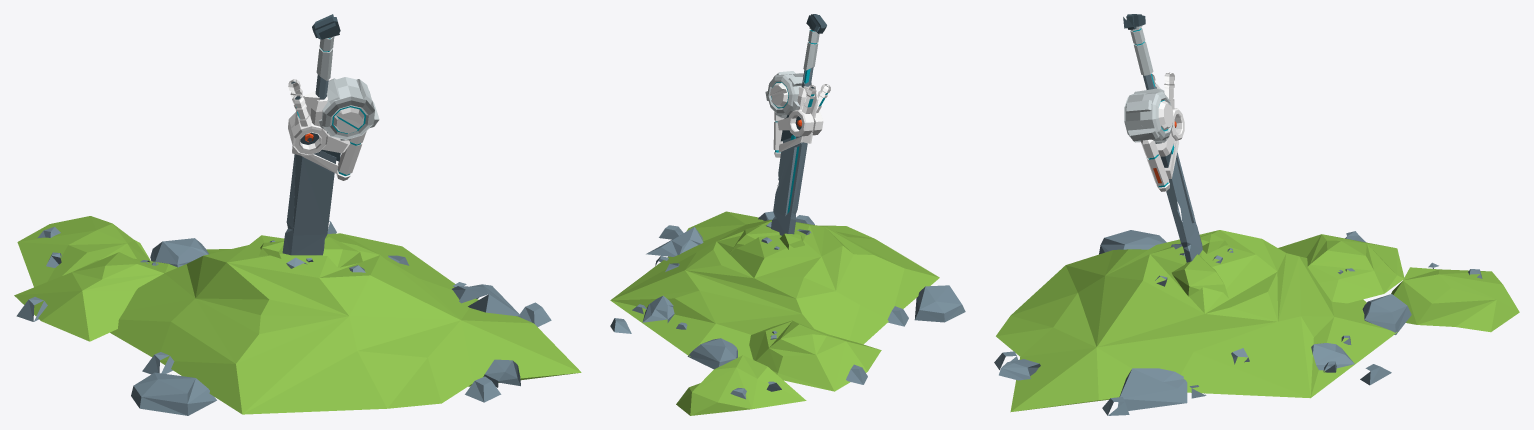
Rendered from sword.glb.
3 views of the same model, side by side, from view 1: azimuth 30°, elevation 25°; view 2: azimuth 150°, elevation 25°; view 3: azimuth 270°, elevation 25° (orthographic). The views are drawn at different scales.
Parts seen in each view (by area): view 1: group1821133275, group1355283942, group1968882272, group263190879, group429069021, group707763807, group1959712594, group1165729818, group891422983, group262363045; view 2: group1821133275, group1355283942, group1968882272, group263190879, group429069021, group1959712594, group707763807, group294009847, group1165729818; view 3: group1821133275, group1355283942, group263190879, group1968882272, group707763807, group1165729818, group1959712594, group429069021, group294009847, group891422983.
Boxes of the visible parts, bbox=[...] form: group1821133275: bbox=[110, 233, 581, 414]; group1355283942: bbox=[282, 14, 379, 255]; group1968882272: bbox=[14, 252, 177, 341]; group263190879: bbox=[17, 216, 150, 287]; group429069021: bbox=[131, 372, 216, 415]; group707763807: bbox=[452, 284, 522, 317]; group1959712594: bbox=[150, 238, 208, 267]; group1165729818: bbox=[317, 237, 362, 267]; group891422983: bbox=[483, 359, 520, 387]; group262363045: bbox=[465, 376, 501, 402]; group1821133275: bbox=[610, 211, 939, 359]; group1355283942: bbox=[765, 14, 830, 235]; group1968882272: bbox=[749, 320, 881, 391]; group263190879: bbox=[676, 355, 806, 415]; group429069021: bbox=[914, 285, 965, 322]; group1959712594: bbox=[687, 338, 737, 369]; group707763807: bbox=[646, 227, 703, 256]; group294009847: bbox=[642, 295, 674, 322]; group1165729818: bbox=[730, 224, 779, 252]; group1821133275: bbox=[996, 230, 1397, 412]; group1355283942: bbox=[1123, 14, 1202, 262]; group263190879: bbox=[1391, 267, 1519, 332]; group1968882272: bbox=[1278, 234, 1404, 303]; group707763807: bbox=[1117, 368, 1187, 410]; group1165729818: bbox=[1171, 254, 1228, 298]; group1959712594: bbox=[1362, 294, 1411, 334]; group429069021: bbox=[1099, 230, 1166, 254]; group294009847: bbox=[1311, 343, 1354, 370]; group891422983: bbox=[999, 359, 1040, 380].
Bounding box in the file's own units: 5.11 × 4.39 × 6.41.
